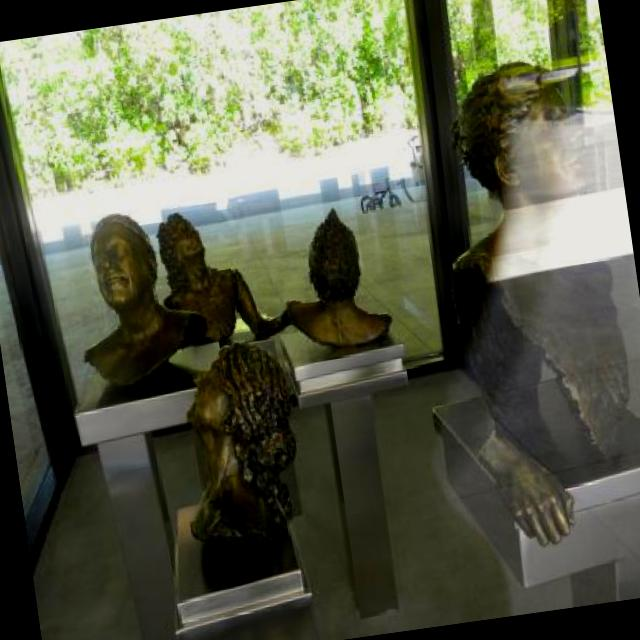Person: (423, 54, 620, 471), (159, 326, 316, 562), (68, 208, 198, 396), (280, 206, 387, 360), (150, 201, 246, 329)
